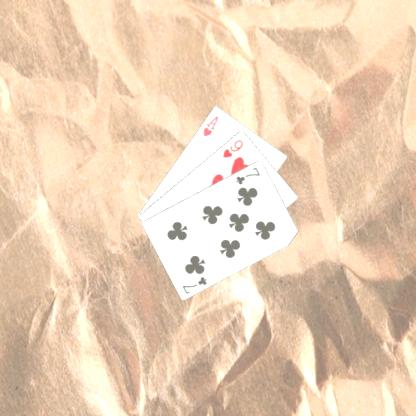7C: (180, 273, 209, 295), (234, 164, 262, 186)
9H: (220, 137, 245, 159)
AH: (200, 113, 220, 138)
